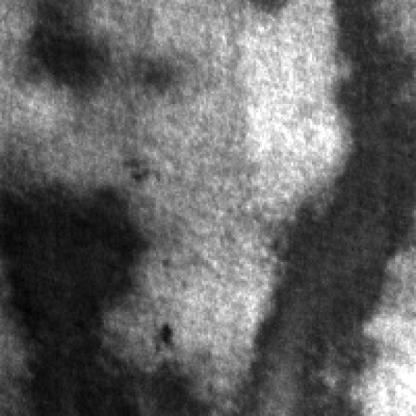patches: (252, 2, 416, 412), (2, 183, 202, 412), (32, 0, 110, 87)
